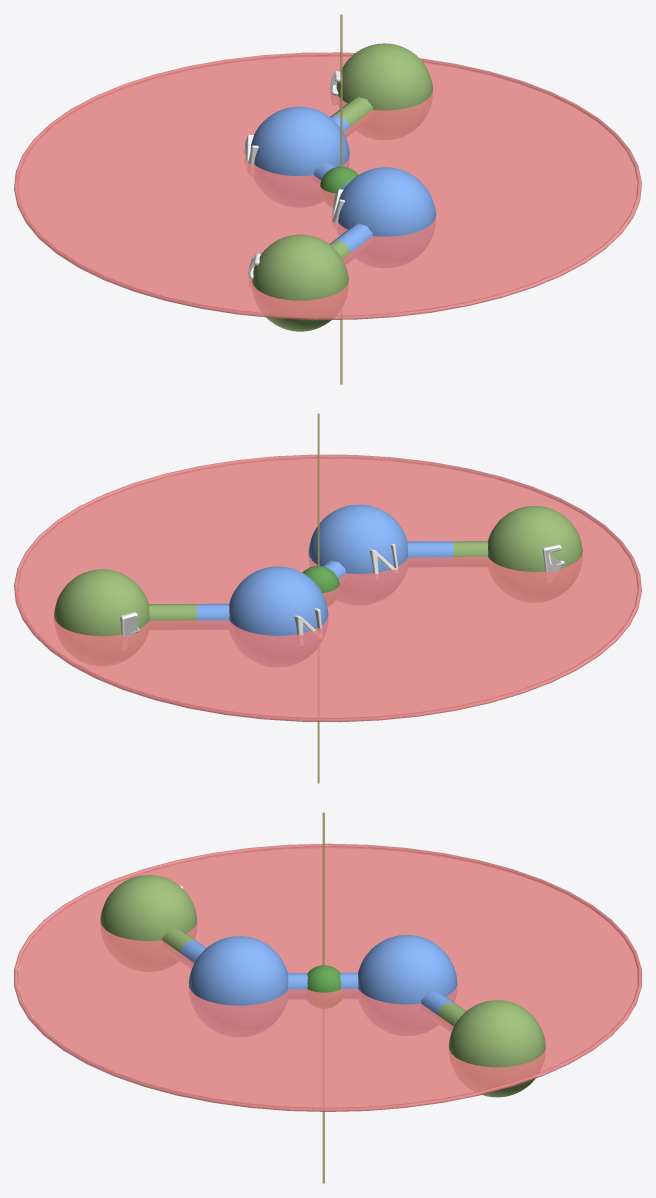
File: difluorodiazene_new.fbx
3 renders of one model, top to bottom at view 1: azimuth 30°, elevation 25°; view 2: azimuth 150°, elevation 25°; view 3: azimuth 270°, elevation 25°, orthographic.
Visible parts, largest first — view 1: rotation disc, difluorodiazene, inversion sphere, axis; view 2: rotation disc, difluorodiazene, axis, inversion sphere; view 3: rotation disc, difluorodiazene, inversion sphere, axis.
Boxes of the visible parts, x1,y1,x2,y2 form: rotation disc: [14, 52, 641, 319]; difluorodiazene: [244, 43, 435, 331]; inversion sphere: [320, 166, 358, 193]; axis: [340, 14, 342, 384]; rotation disc: [14, 454, 641, 722]; difluorodiazene: [54, 504, 582, 636]; axis: [317, 413, 319, 783]; inversion sphere: [302, 566, 339, 592]; rotation disc: [14, 843, 641, 1111]; difluorodiazene: [100, 875, 545, 1097]; inversion sphere: [307, 965, 341, 992]; axis: [322, 812, 324, 1183].
Size of the model in its own units: 466 by 303 by 465.
